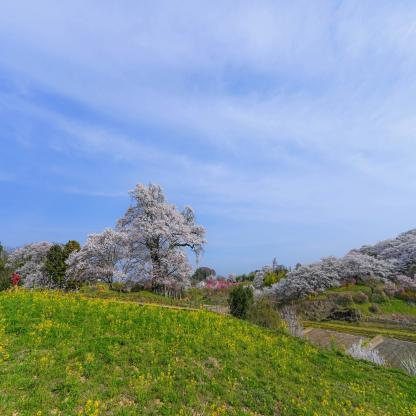EdohiganSakura: (63, 181, 208, 295)
